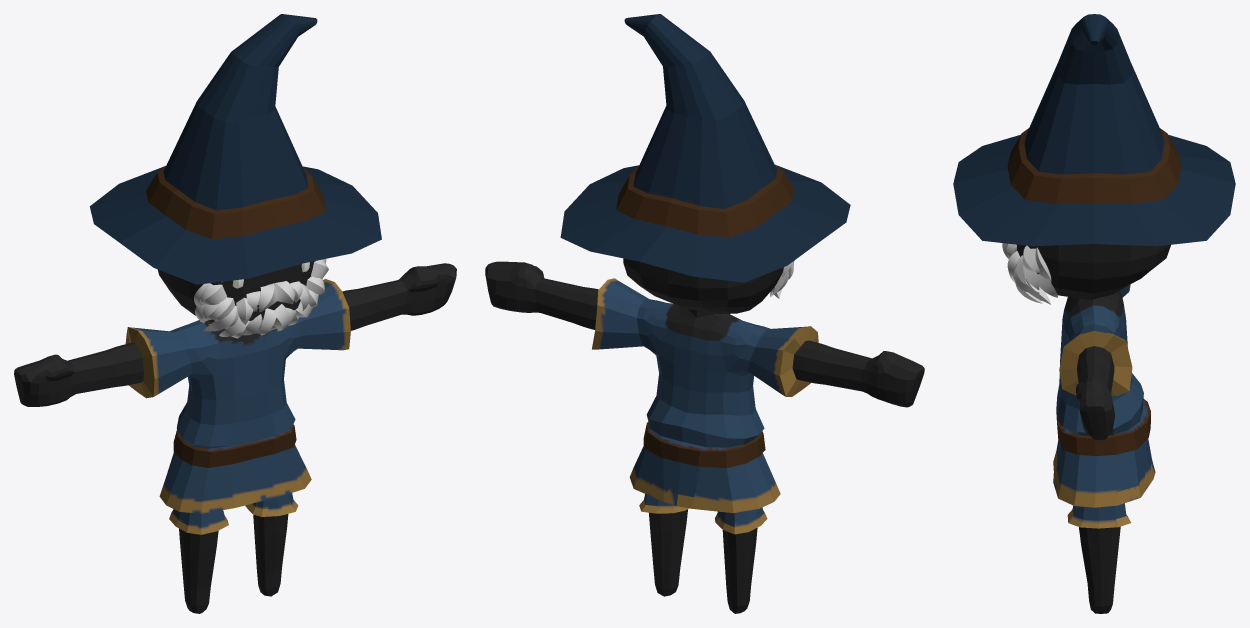
File: Wizard.fbx
3 views of the same model, side by side, from view 1: azimuth 30°, elevation 25°; view 2: azimuth 150°, elevation 25°; view 3: azimuth 270°, elevation 25° (orthographic). The views are drawn at different scales.
Visible parts, largest first — view 1: Body; view 2: Body; view 3: Body.
Part boxes in pixels (x1,y1,x2,y2): Body: (14,14,456,613); Body: (485,14,924,613); Body: (953,14,1235,613).
Bounding box in the file's own units: 324 × 410 × 173.
1 material, 1 textured.
